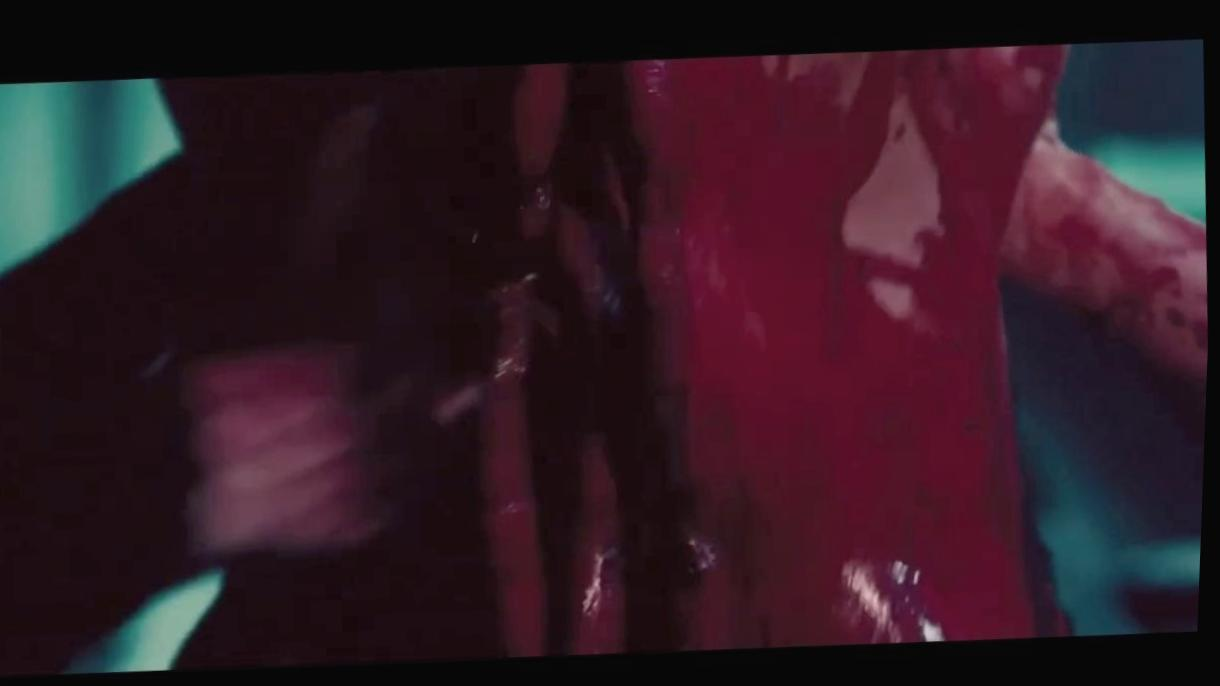Fire: (158, 44, 1210, 669)
